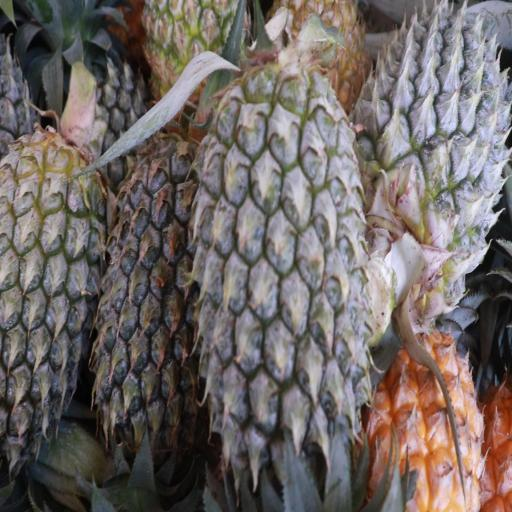Pineapple - v8 v1: (368, 326, 482, 511)
